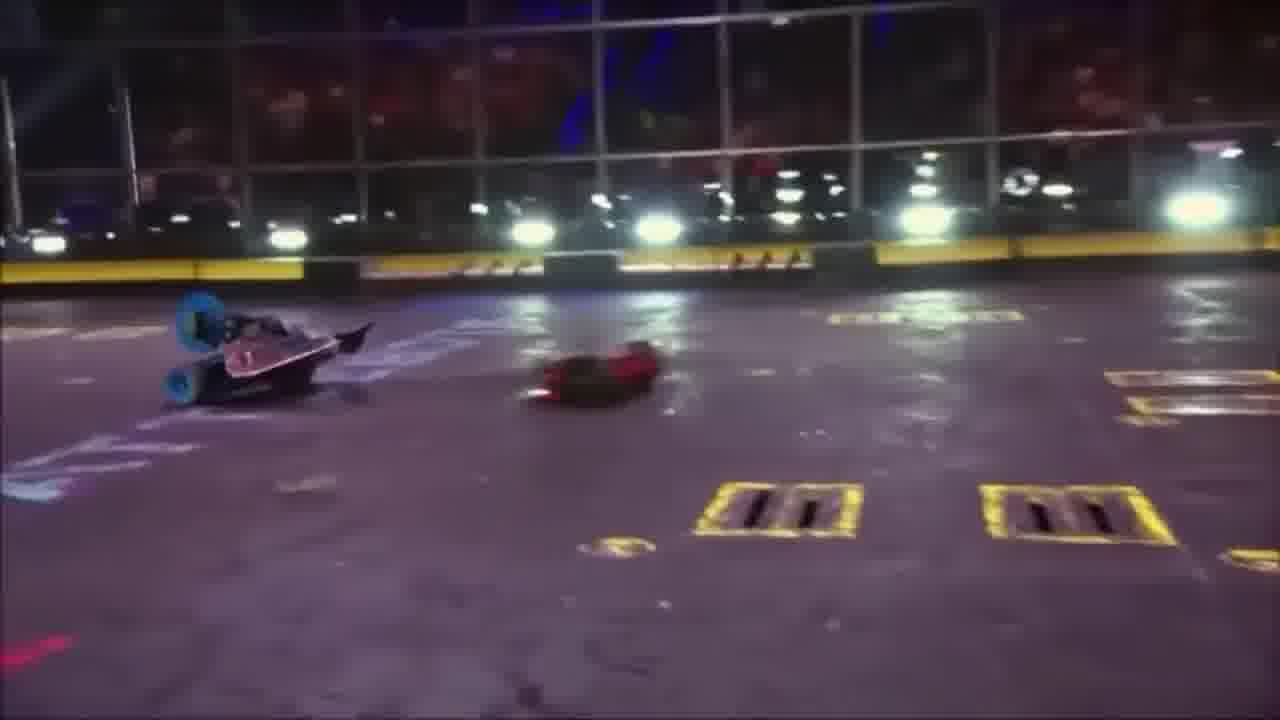combatbot: (166, 289, 362, 410), (517, 338, 669, 411)
